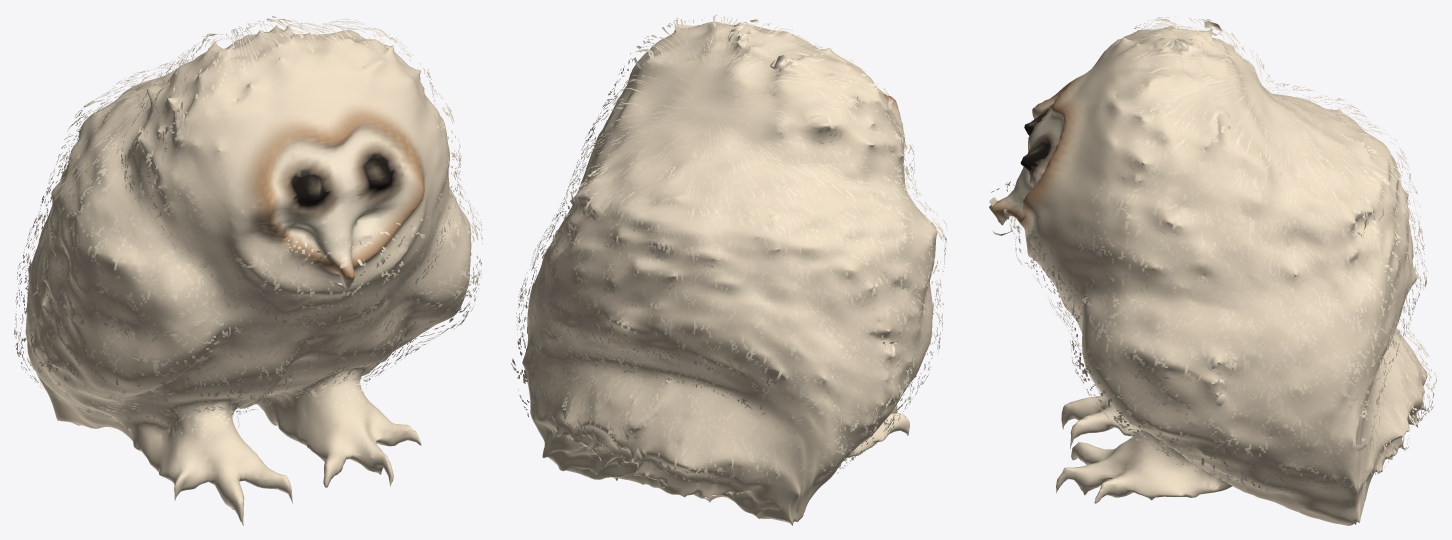
File: shell-ART_UNAPPROVED.glb
3 renders of one model, left to right at view 1: azimuth 30°, elevation 25°; view 2: azimuth 150°, elevation 25°; view 3: azimuth 270°, elevation 25°, orthographic. The views are drawn at different scales.
Visible parts, largest first — view 1: run100_voxel_55k_REAL_NEURAL_SOURCE; view 2: run100_voxel_55k_REAL_NEURAL_SOURCE; view 3: run100_voxel_55k_REAL_NEURAL_SOURCE.
Boxes of the visible parts, x1,y1,x2,y2 form: run100_voxel_55k_REAL_NEURAL_SOURCE: [14, 16, 482, 525]; run100_voxel_55k_REAL_NEURAL_SOURCE: [511, 14, 947, 525]; run100_voxel_55k_REAL_NEURAL_SOURCE: [989, 16, 1436, 525].
Bounding box in the file's own units: 1.68 × 1.8 × 1.7.
Materials: 2 (1 with a texture image).
